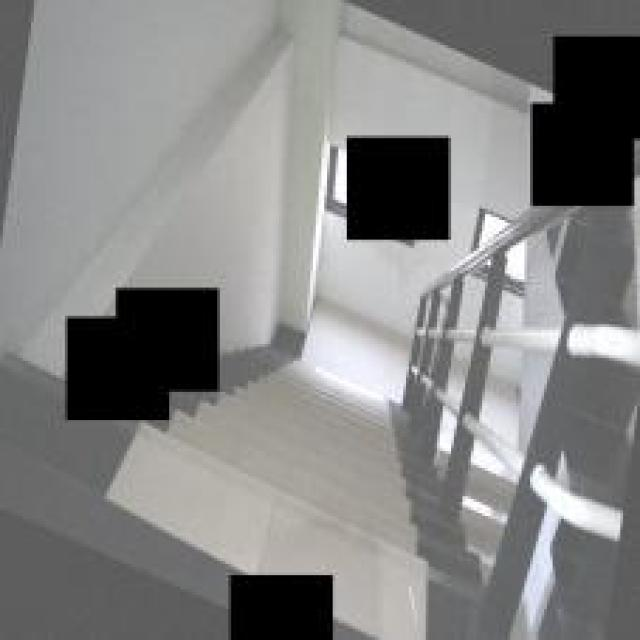downstair: (240, 322, 406, 572)
